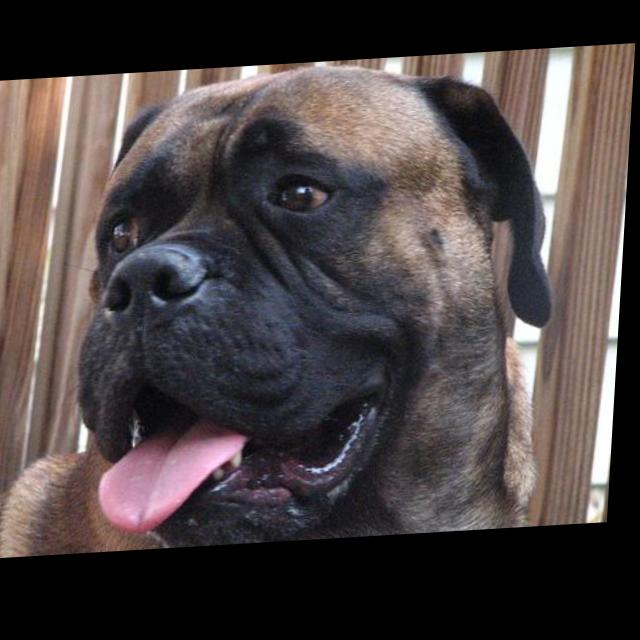bullmastiff: (1, 57, 571, 560)
